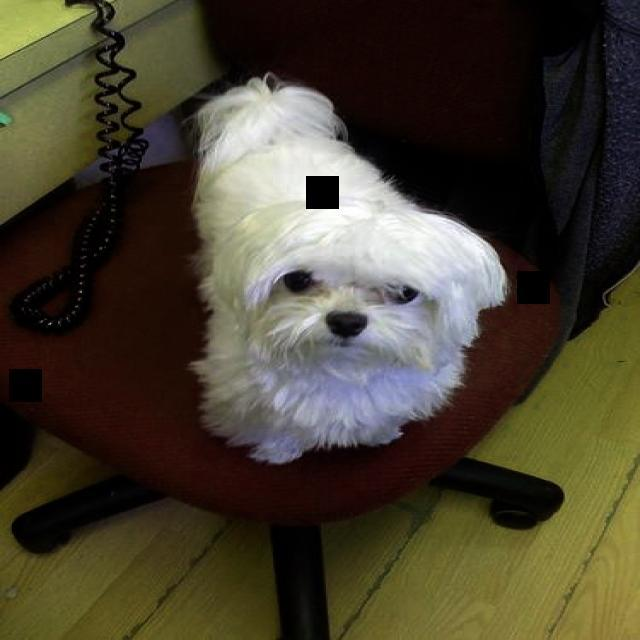adult_dog: (189, 71, 511, 474)
